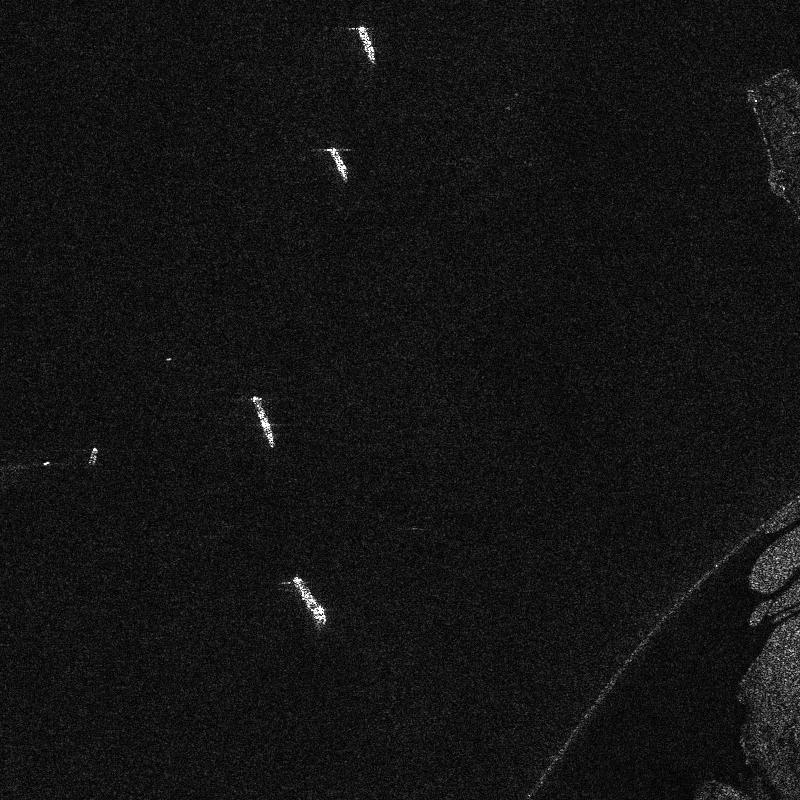ship: (292, 576, 327, 625), (252, 395, 275, 448), (326, 146, 348, 182), (357, 26, 375, 63), (87, 447, 98, 466)
